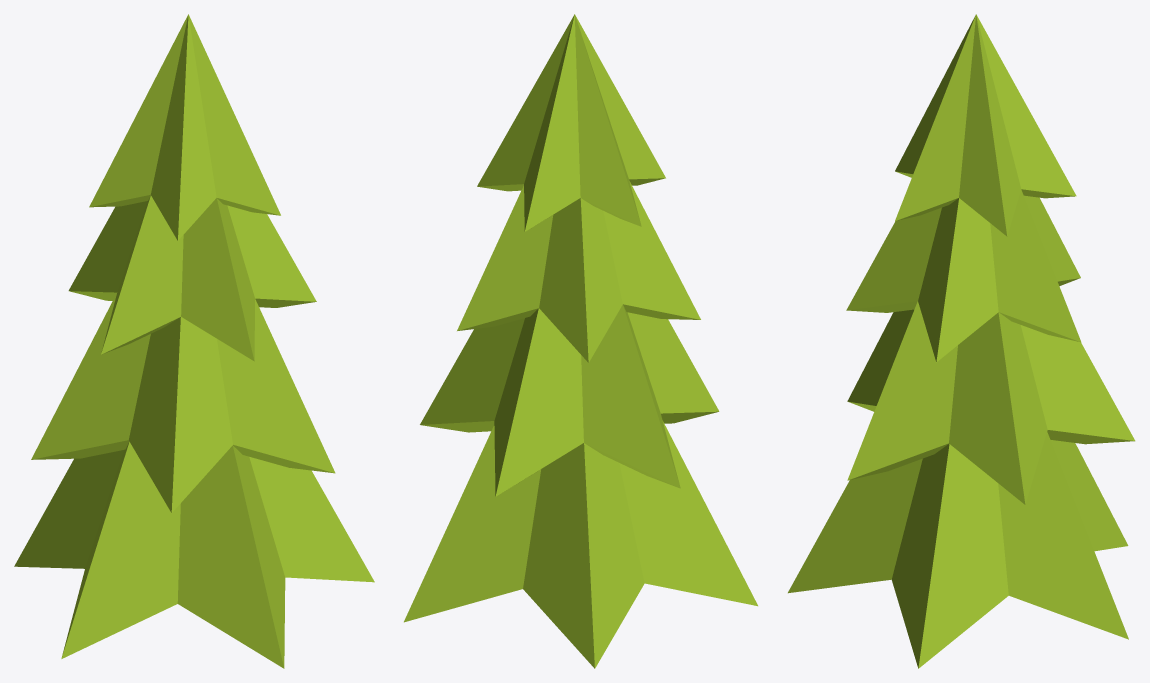
File: tree_2.glb
The picture shows the model from 3 angles, left to right: view 1: azimuth 30°, elevation 25°; view 2: azimuth 150°, elevation 25°; view 3: azimuth 270°, elevation 25°; orthographic projection.
Visible parts, largest first — view 1: Cone.003; view 2: Cone.003; view 3: Cone.003.
Boxes of the visible parts, bbox=[...] form: Cone.003: bbox=[14, 14, 374, 668]; Cone.003: bbox=[404, 14, 757, 668]; Cone.003: bbox=[788, 14, 1135, 668].
Bounding box in the file's own units: 3.57 × 6.35 × 3.46.
